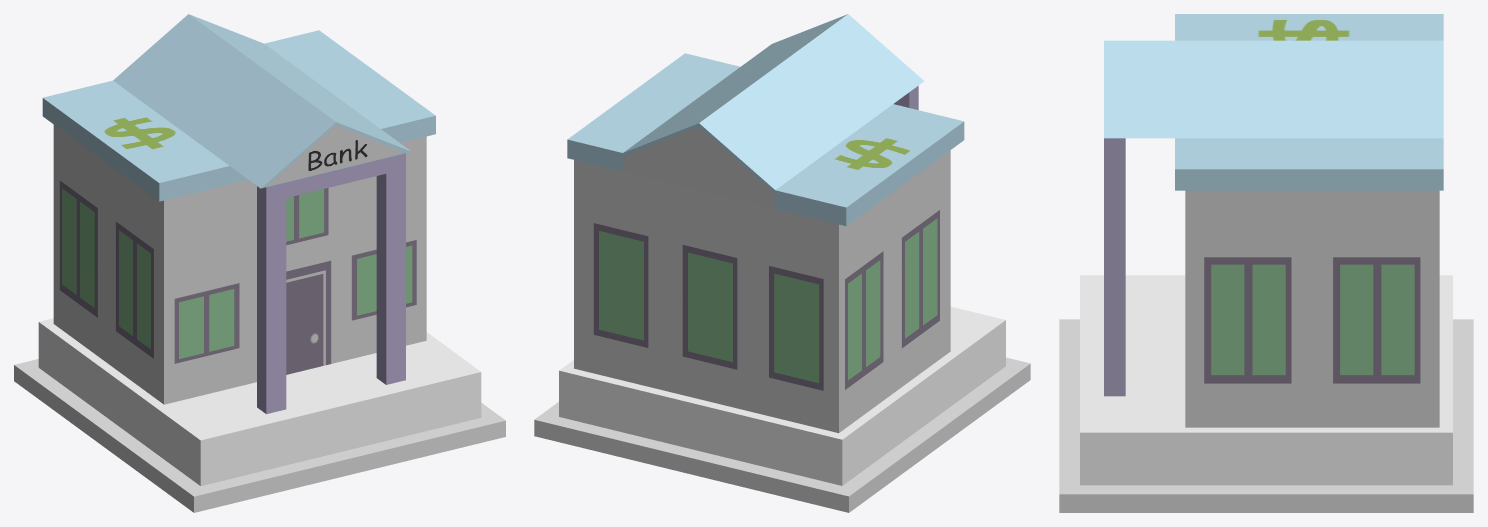
Rendered from Bank03_1.FBX.
The picture shows the model from 3 angles, left to right: view 1: azimuth 30°, elevation 25°; view 2: azimuth 150°, elevation 25°; view 3: azimuth 270°, elevation 25°; orthographic projection. The views are drawn at different scales.
Parts seen in each view (by area): view 1: Box005, Box001; view 2: Box005, Box001; view 3: Box005, Box001.
Boxes of the visible parts, left/top/right/bottom form: Box005: left=38, top=14, right=481, bottom=485; Box001: left=14, top=359, right=505, bottom=512; Box005: left=559, top=14, right=1005, bottom=485; Box001: left=534, top=357, right=1030, bottom=512; Box005: left=1080, top=14, right=1452, bottom=485; Box001: left=1059, top=319, right=1473, bottom=512.
Bounding box in the file's own units: 1 × 1.03 × 1.
Materials: 4 (4 with a texture image).
